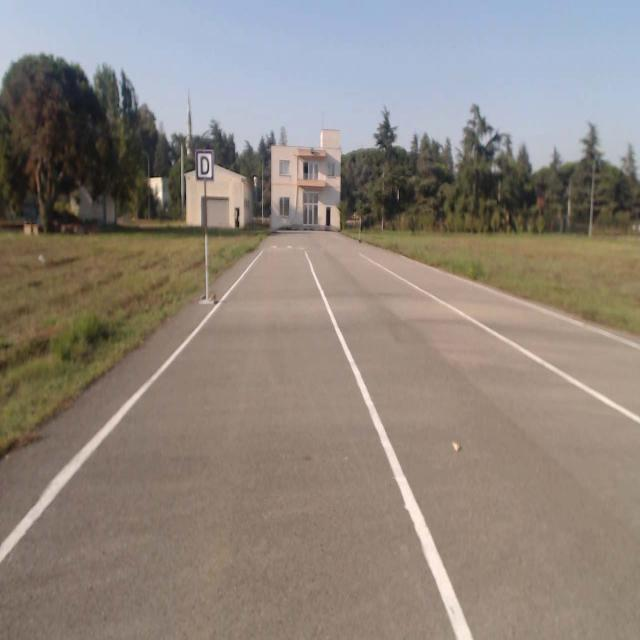durak: (196, 150, 214, 181)
